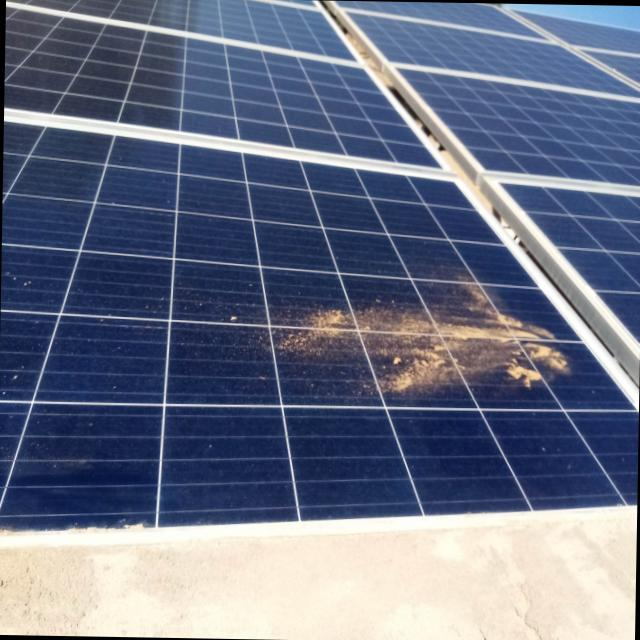faulty: (167, 223, 580, 454)
